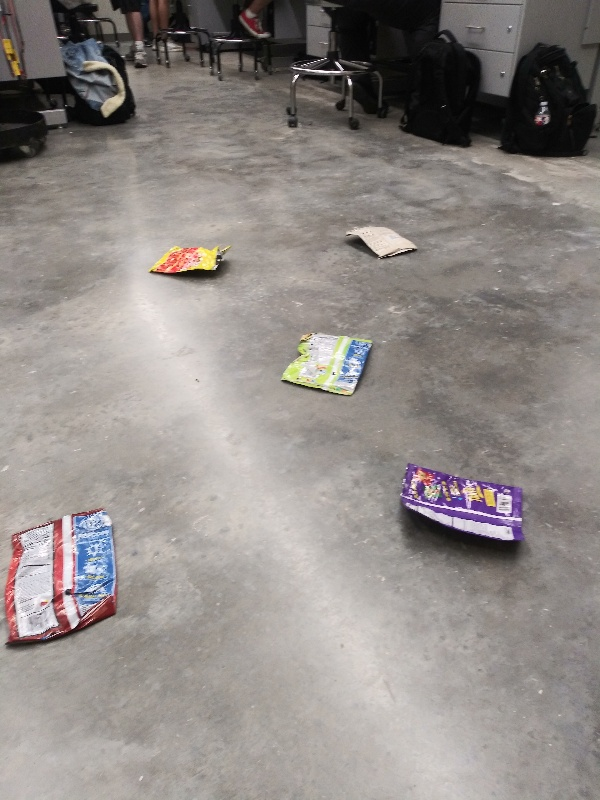bag: (1, 504, 122, 652), (393, 459, 531, 549), (276, 325, 383, 402), (341, 222, 424, 261), (149, 243, 235, 279)
bottle: (530, 96, 553, 129)
